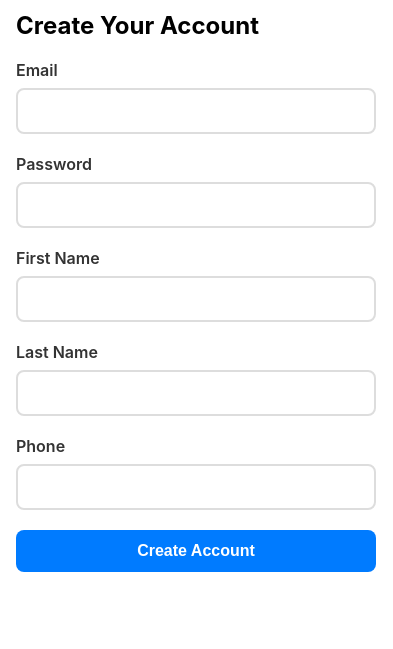
Test case: Authentication Flow Integration Tests › Registration Flow › registration error displays error message
// Fill out and submit form
In the field labelled "Email": (196, 111) top-left (16, 88), bottom-right (376, 134), type "existing@example.com"
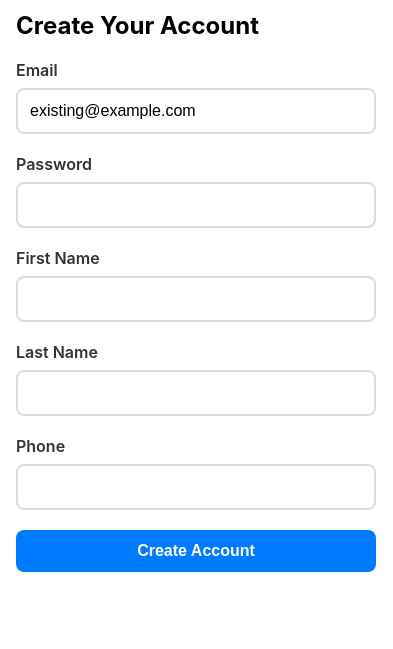
In the password field labelled "Password": (196, 205) top-left (16, 182), bottom-right (376, 228), type "password123"
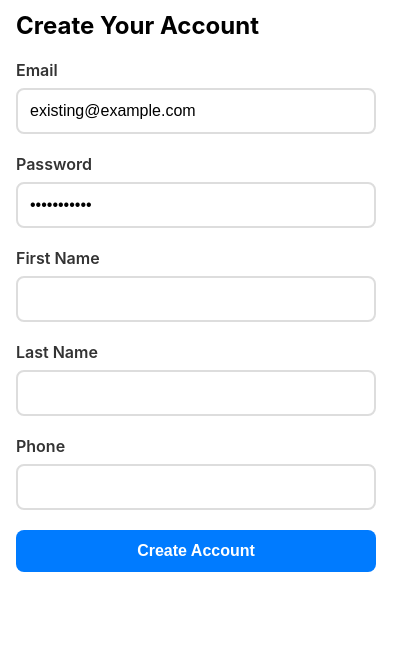
Click the button "Create Account": (196, 551) top-left (16, 530), bottom-right (376, 572)
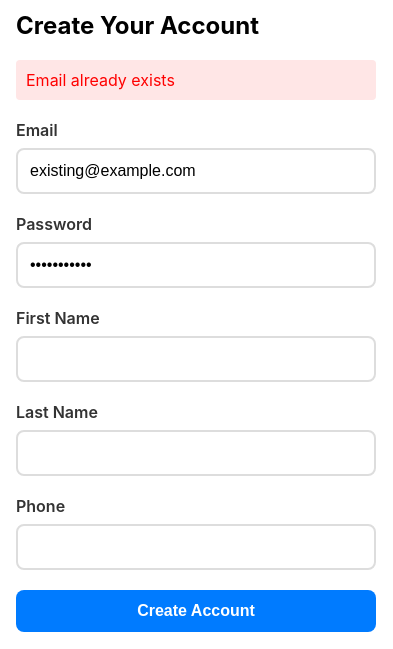
Now the text "Email already exists" is shown, box top-left (16, 60), bottom-right (376, 100)
